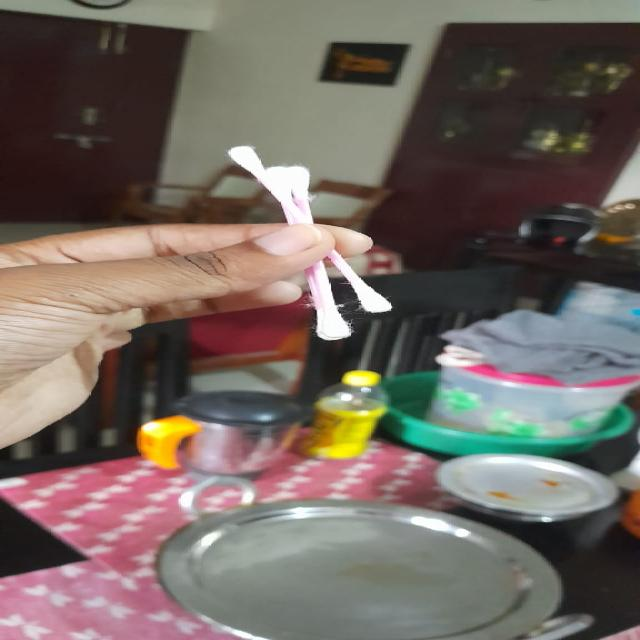Earbud - Non Recyclable: (223, 144, 394, 341)
